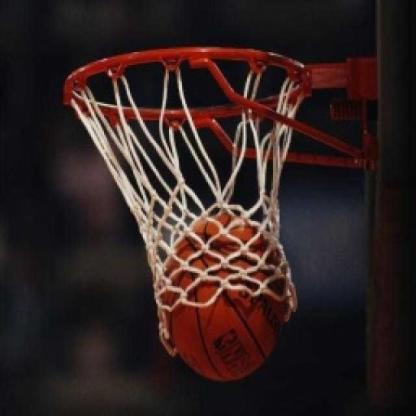basketball: (153, 206, 295, 385)
